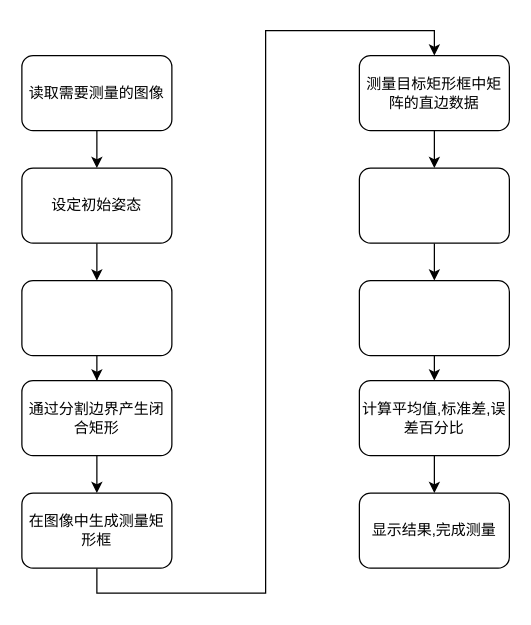
The diagram is 531 pixels wide and 625 high, and some of its shapes have lost their labels. The shapes that lost their labels are listed below. From the top down, each one's box as (x1, y1, x2, y2) in pixels, then its label:
(358, 167, 509, 243): 将结果转换到世界坐标系
(21, 279, 172, 356): 对需要测量的图像进行阈值分割
(358, 279, 509, 356): 计算刻度尺上刻度之间的距离
